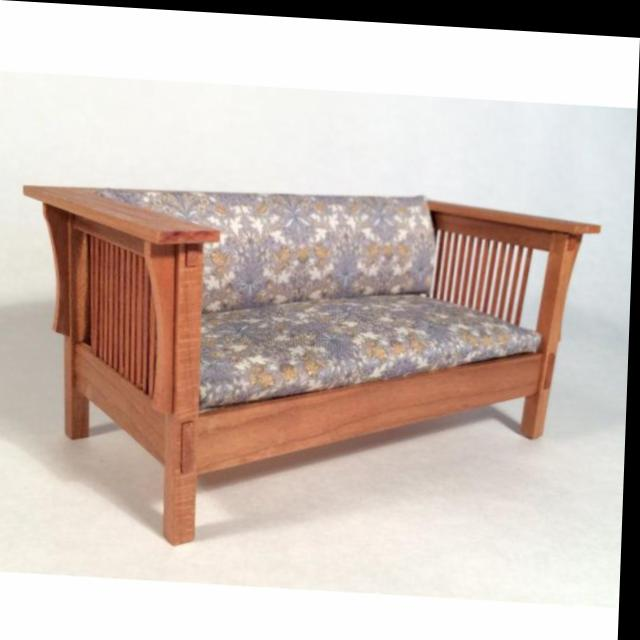Sofa: (13, 170, 604, 563)
